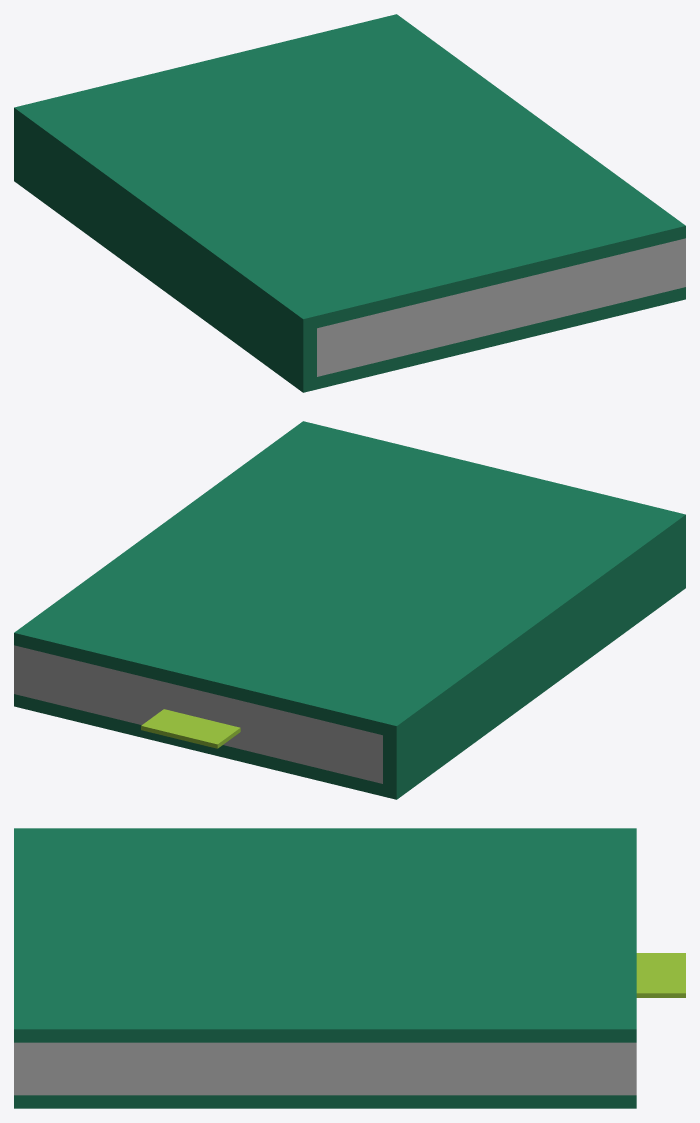
The model's file is Book3.FBX.
3 renders of one model, top to bottom at view 1: azimuth 30°, elevation 25°; view 2: azimuth 150°, elevation 25°; view 3: azimuth 270°, elevation 25°, orthographic. The views are drawn at different scales.
Visible parts, largest first — view 1: SM_Book_03; view 2: SM_Book_03; view 3: SM_Book_03.
Part boxes in pixels (box(x1,y1,x2,y2)): SM_Book_03: box(14, 14, 685, 392); SM_Book_03: box(14, 421, 685, 799); SM_Book_03: box(14, 828, 685, 1108).
Size of the model in its own units: 20.35 by 3.74 by 28.74.
